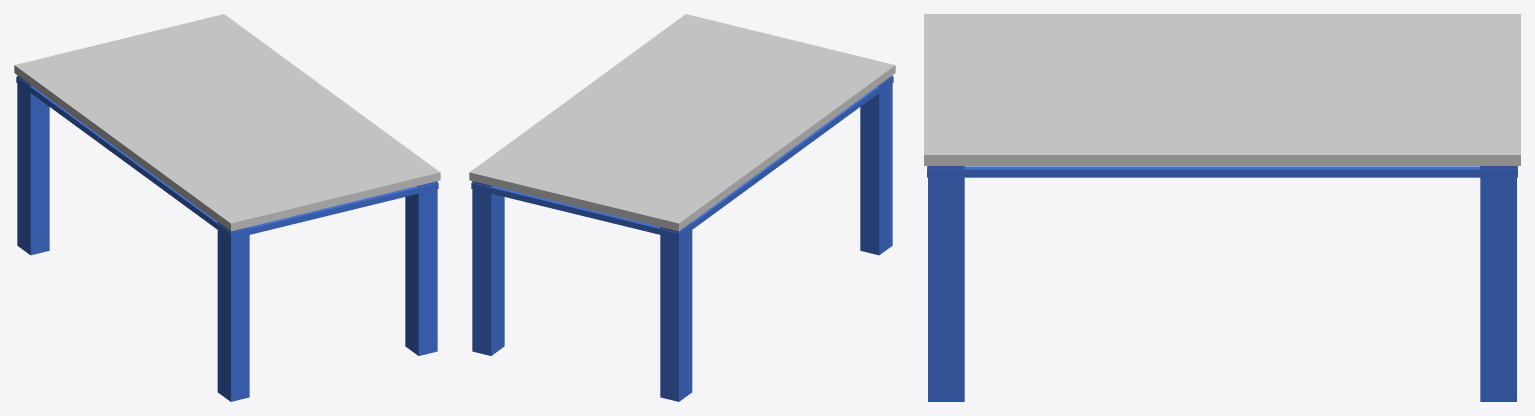
The model's file is Table.fbx.
3 views of the same model, side by side, from view 1: azimuth 30°, elevation 25°; view 2: azimuth 150°, elevation 25°; view 3: azimuth 270°, elevation 25° (orthographic). The views are drawn at different scales.
Parts seen in each view (by area): view 1: Table; view 2: Table; view 3: Table.
Part boxes in pixels (x1=…): Table: x1=14, y1=14, x2=440, y2=401; Table: x1=469, y1=14, x2=895, y2=401; Table: x1=924, y1=14, x2=1520, y2=401.
Bounding box in the file's own units: 997 × 818 × 1783.
